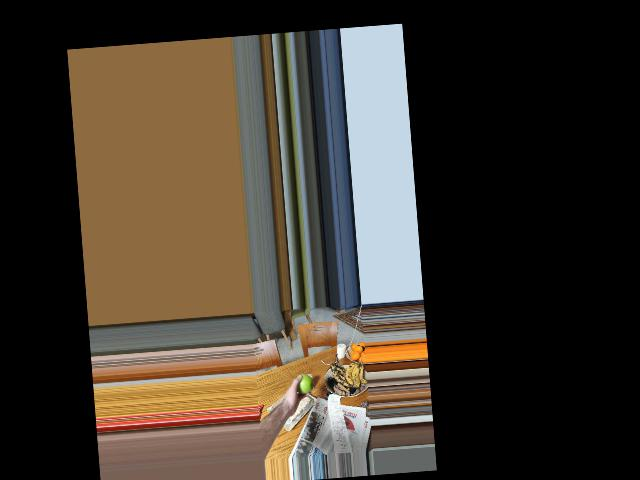apple: (292, 372, 314, 397)
